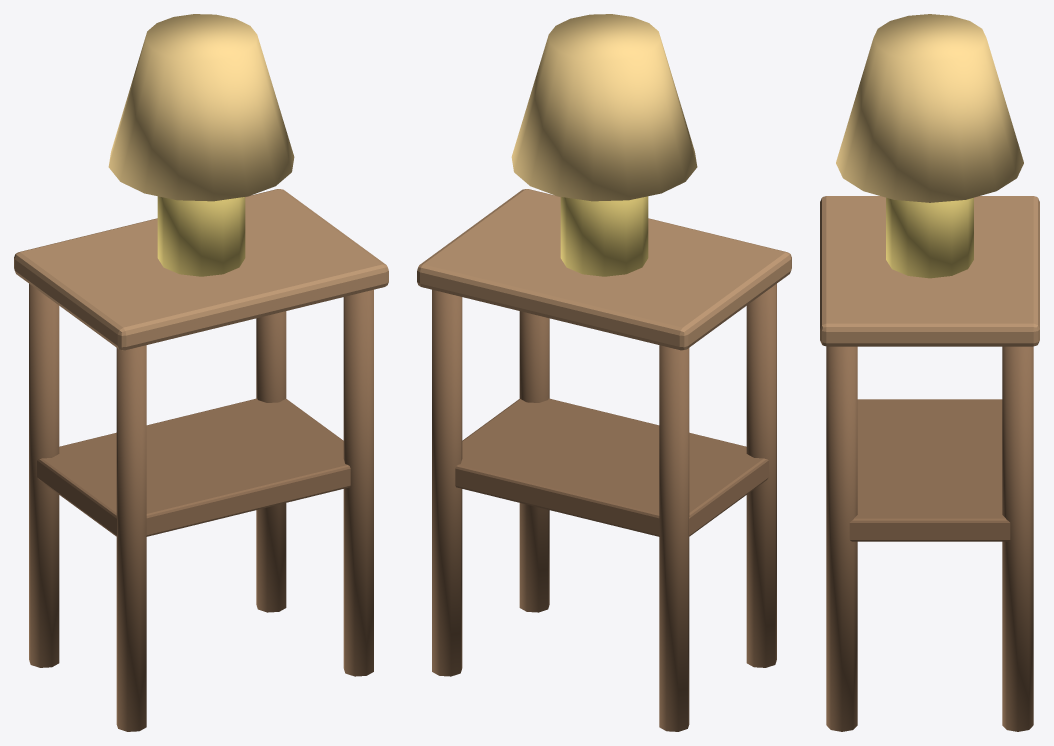
File: SideTableLamp.fbx
3 renders of one model, left to right at view 1: azimuth 30°, elevation 25°; view 2: azimuth 150°, elevation 25°; view 3: azimuth 270°, elevation 25°, orthographic.
Visible parts, largest first — view 1: SideTableLamp; view 2: SideTableLamp; view 3: SideTableLamp.
Part boxes in pixels (x1=…): SideTableLamp: x1=14, y1=14, x2=388, y2=731; SideTableLamp: x1=417, y1=14, x2=791, y2=731; SideTableLamp: x1=820, y1=14, x2=1039, y2=731.
Size of the model in its own units: 50 by 111 by 35.
